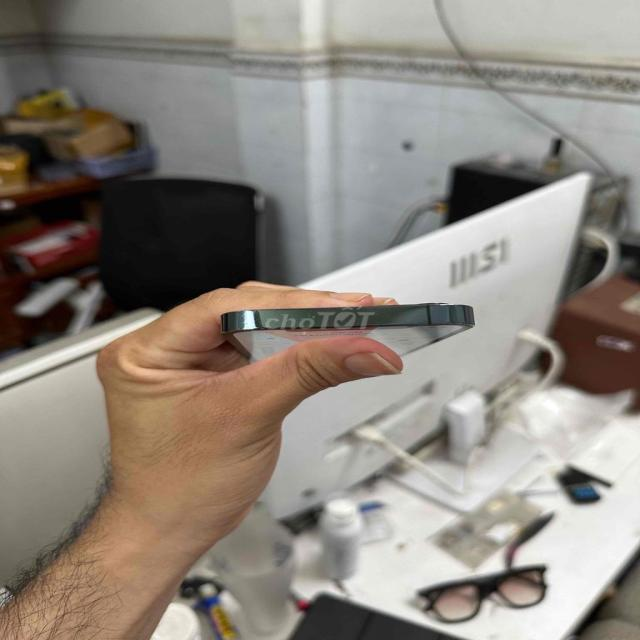gen_12_13: (210, 293, 485, 382)
